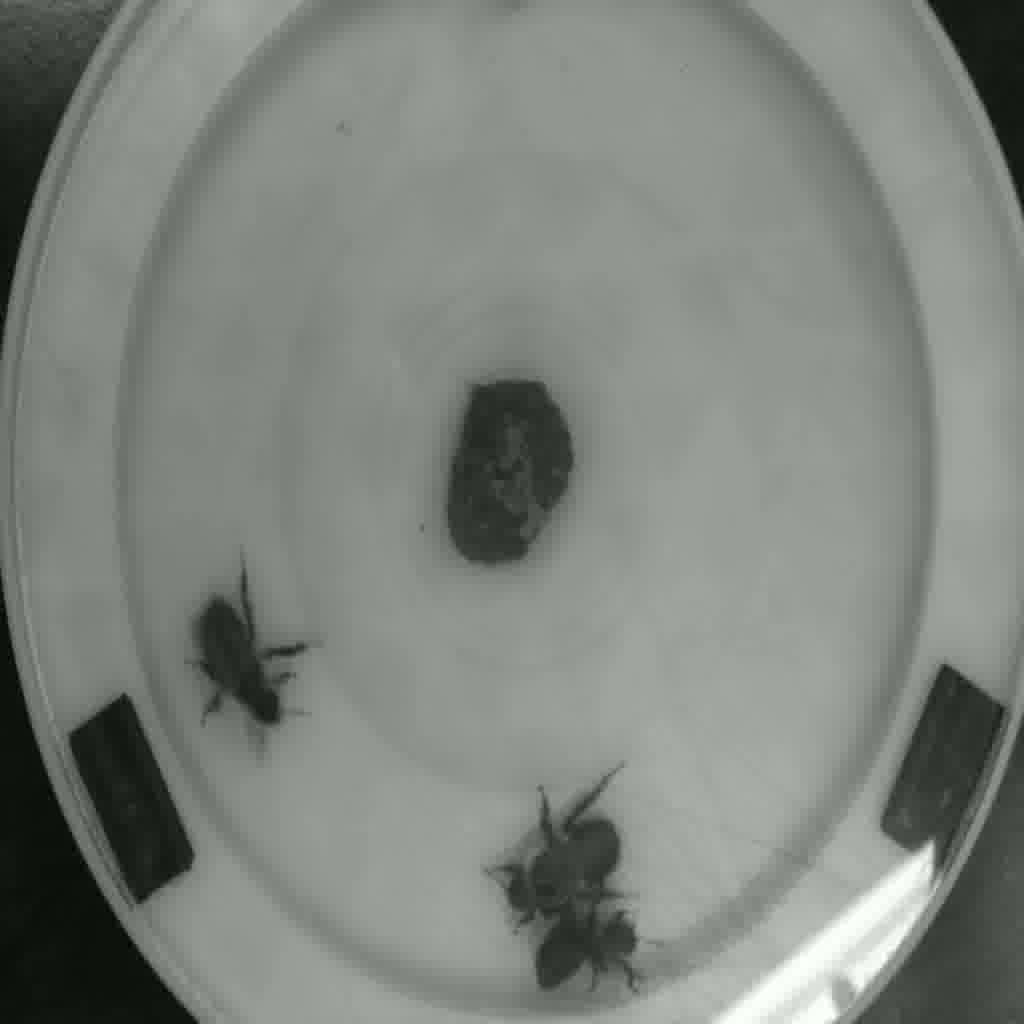bee: (169, 596, 303, 727), (497, 912, 667, 998), (492, 807, 621, 904)
